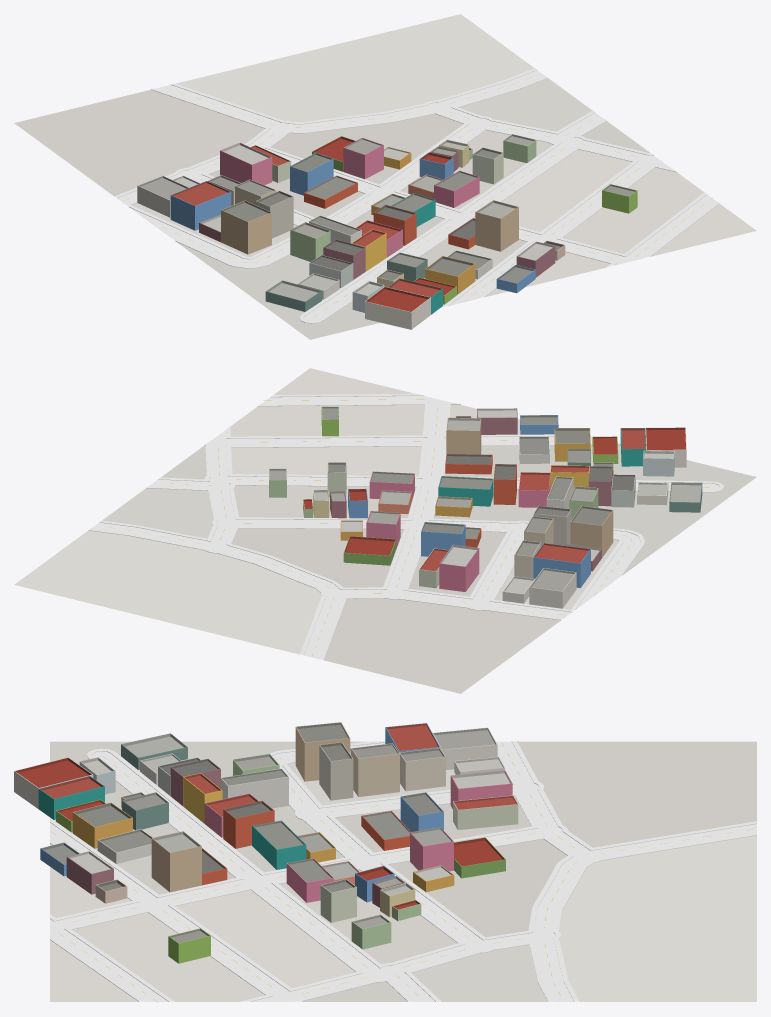
3 views of the same model, one above another, from view 1: azimuth 30°, elevation 25°; view 2: azimuth 150°, elevation 25°; view 3: azimuth 270°, elevation 25° (orthographic). The views are drawn at different scales.
Parts seen in each view (by area): view 1: ground, walls, roofs, asphalt, sidewalk; view 2: ground, walls, roofs, asphalt, sidewalk; view 3: ground, walls, asphalt, roofs, sidewalk, markings.
Part boxes in pixels (box(x1,y1,x2,y2)): ground: box(14, 14, 756, 339); walls: box(137, 140, 637, 329); roofs: box(138, 134, 637, 312); asphalt: box(117, 70, 716, 321); sidewalk: box(115, 68, 719, 323); ground: box(14, 368, 756, 693); walls: box(269, 409, 702, 608); roofs: box(269, 406, 702, 594); asphalt: box(91, 396, 719, 659); sidewalk: box(88, 393, 724, 659); ground: box(50, 741, 756, 1001); walls: box(14, 727, 518, 963); asphalt: box(50, 741, 756, 1001); roofs: box(14, 722, 517, 943); sidewalk: box(50, 741, 756, 1001); markings: box(51, 743, 752, 1002).
Size of what is drawn, in the model's own units: 190 by 13.36 by 228.
